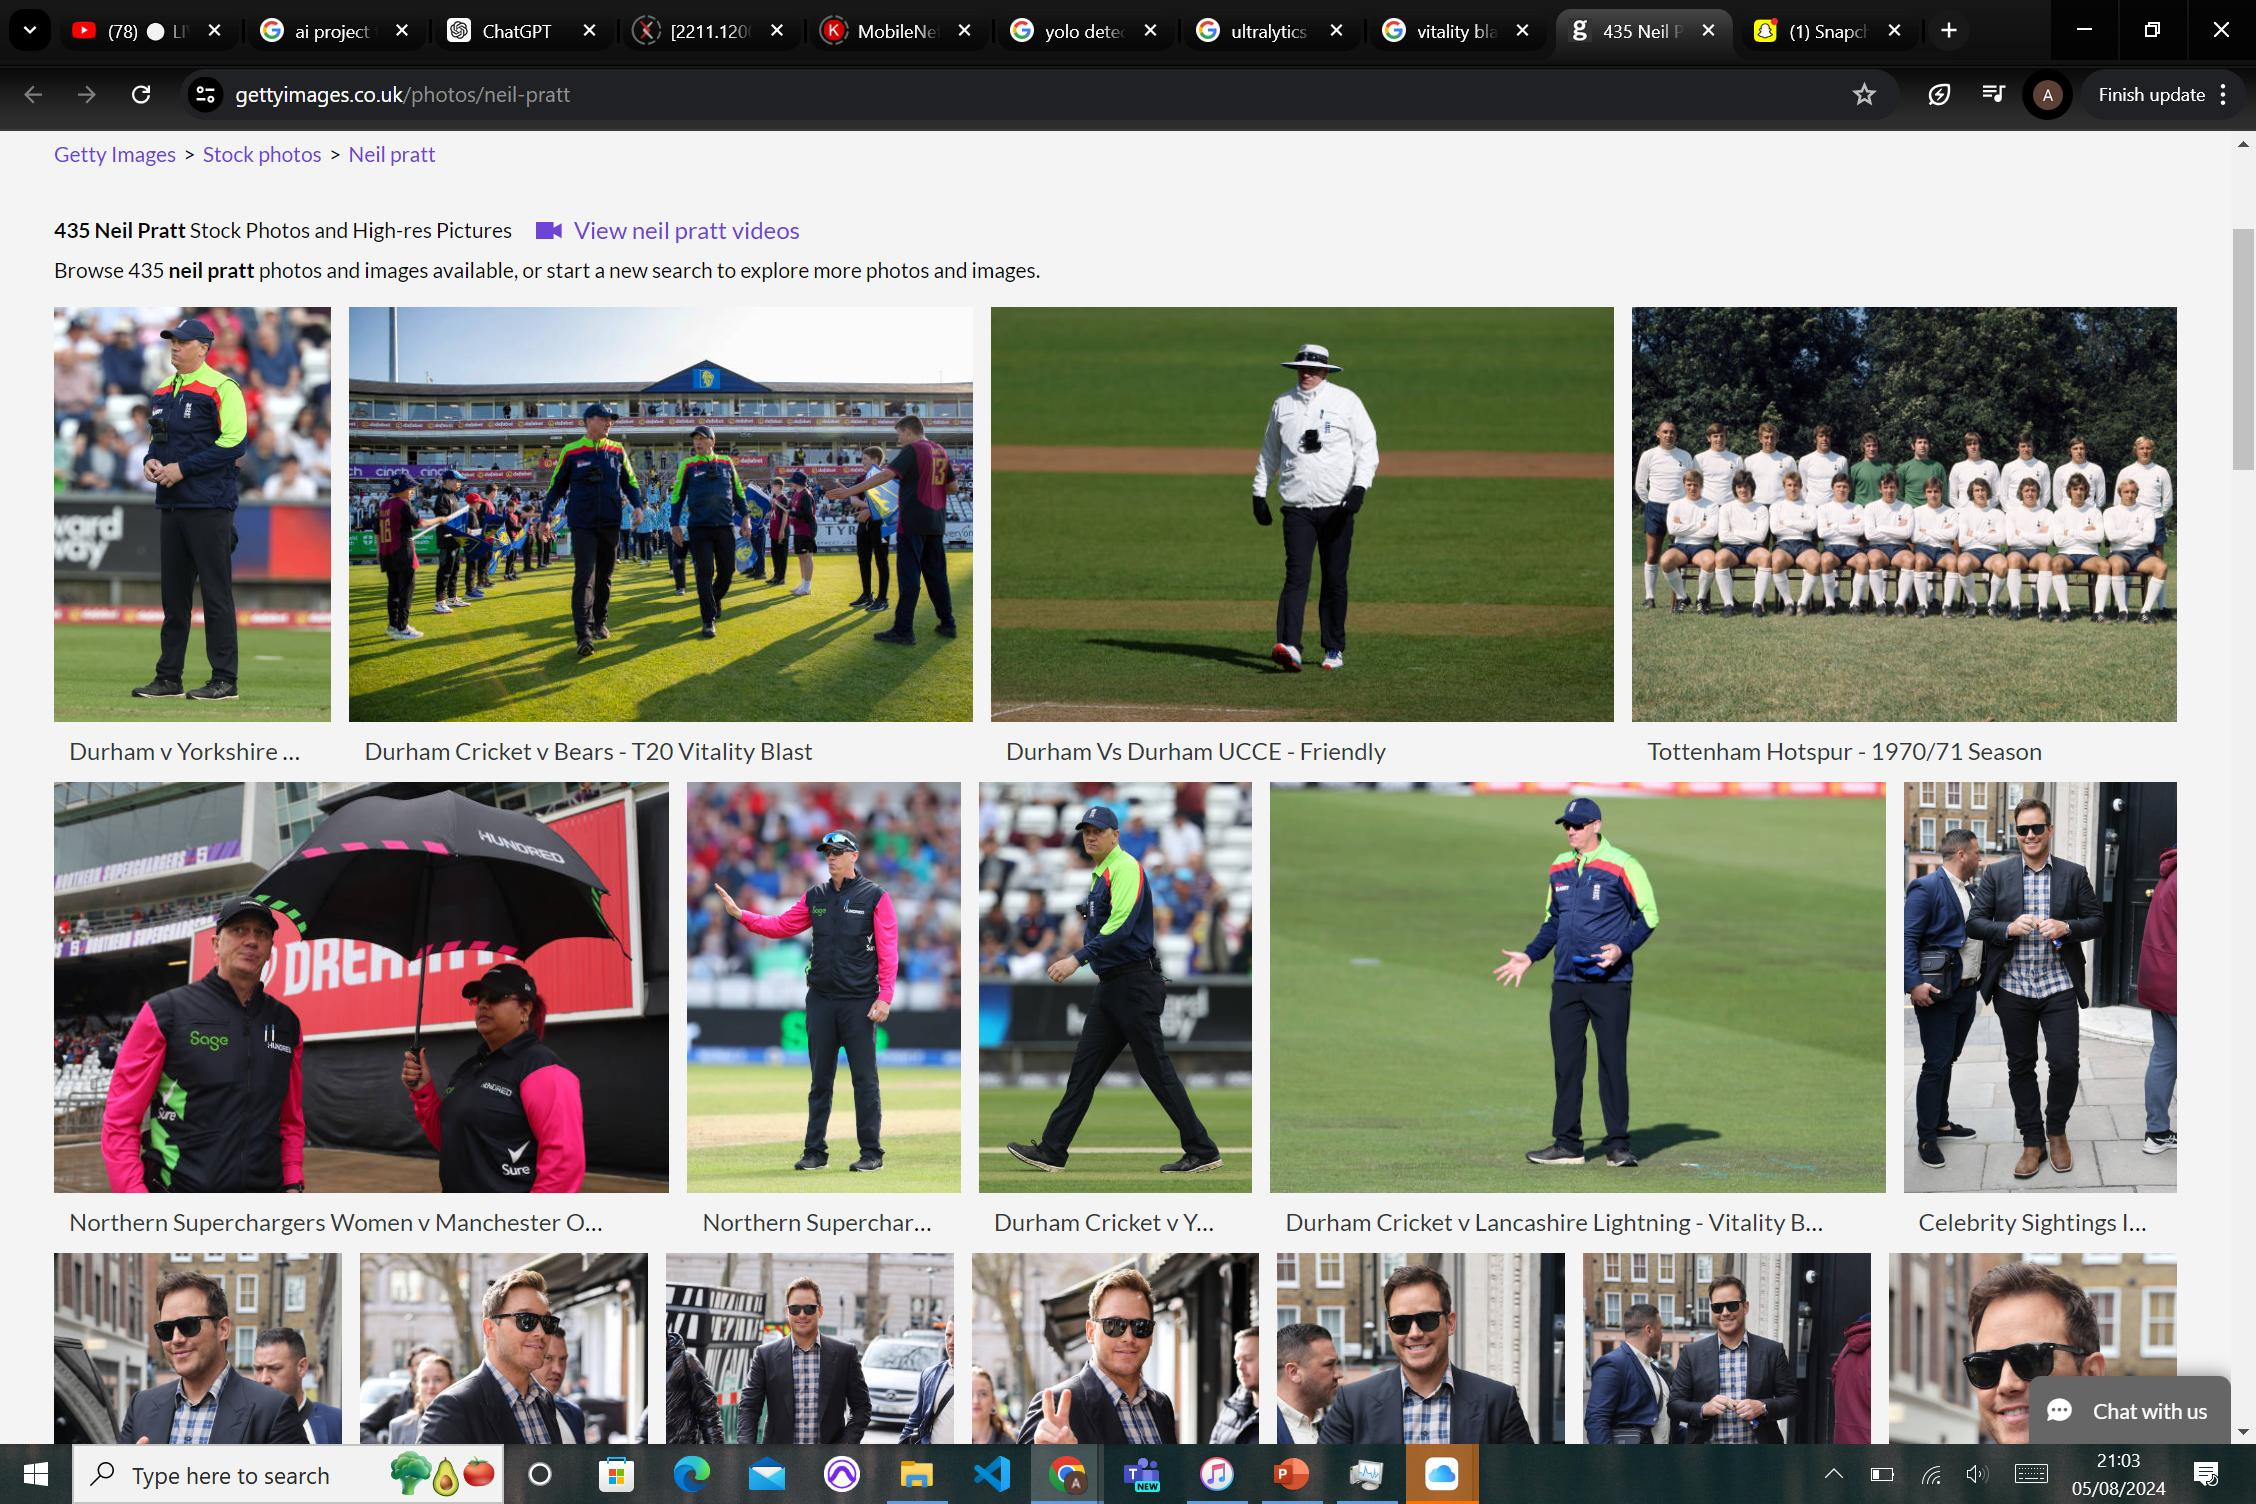umpire: (1016, 796, 1227, 1188), (1507, 787, 1700, 1188), (735, 811, 911, 1178), (131, 304, 274, 727), (1245, 312, 1397, 703), (557, 401, 634, 638)
